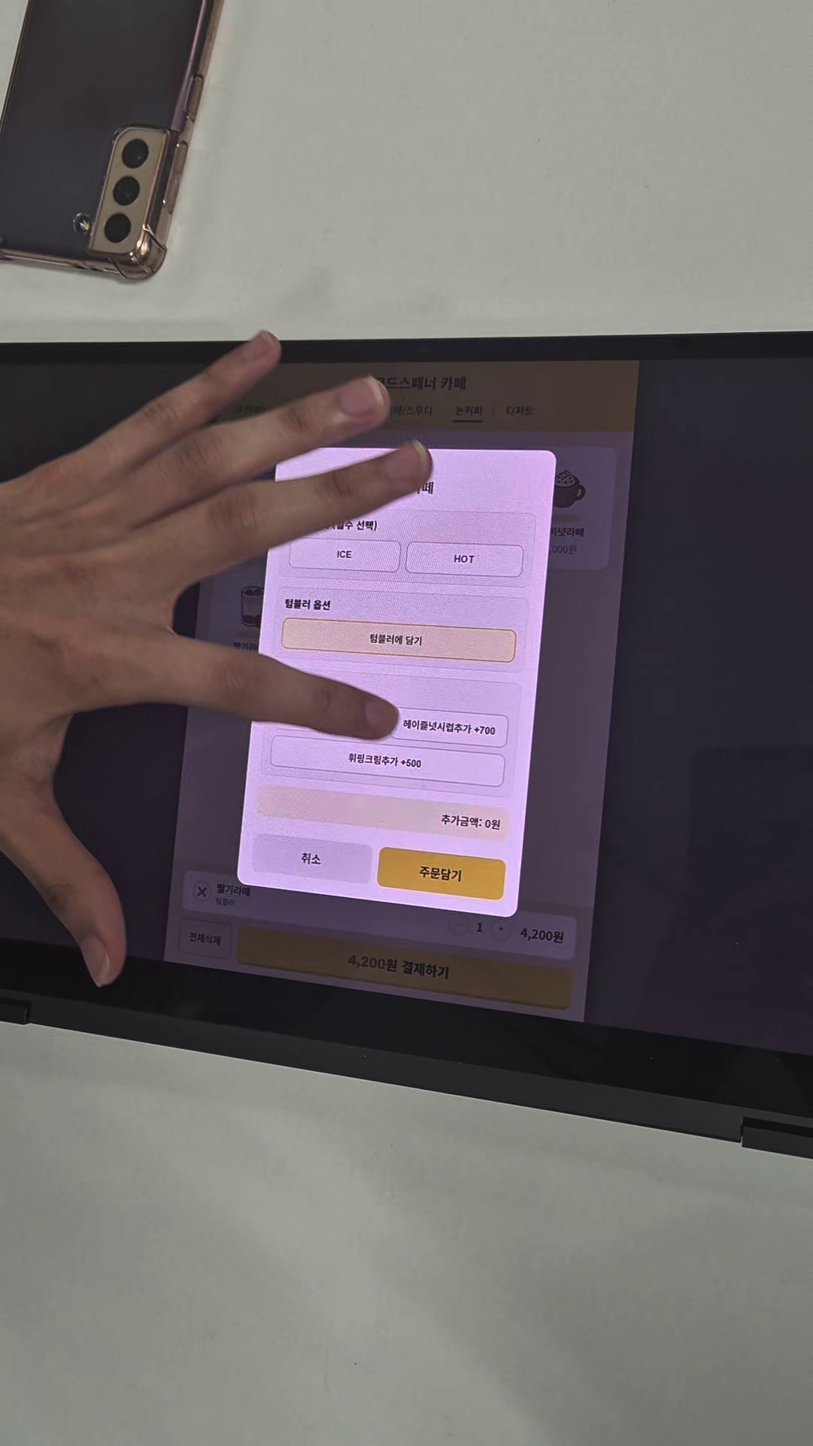action_button: (376, 846, 506, 902), (252, 832, 374, 886)
option_button: (269, 735, 506, 788), (281, 617, 517, 663), (392, 707, 510, 748), (406, 541, 524, 577), (289, 537, 401, 572)
popup_modal: (236, 449, 556, 918)
